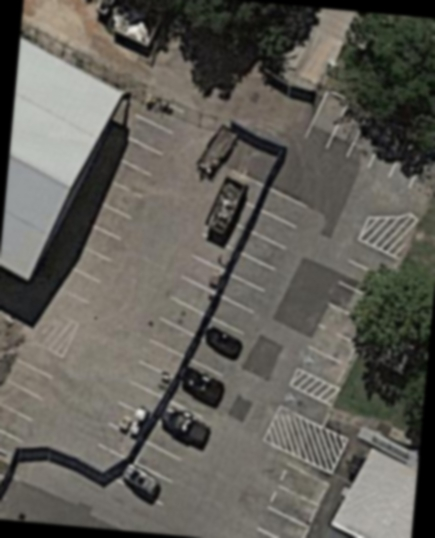parkingspot: (93, 183, 311, 507), (44, 88, 188, 308), (113, 230, 238, 419), (294, 235, 402, 390), (301, 87, 434, 192), (0, 335, 66, 446), (247, 457, 333, 538), (275, 382, 334, 429)
